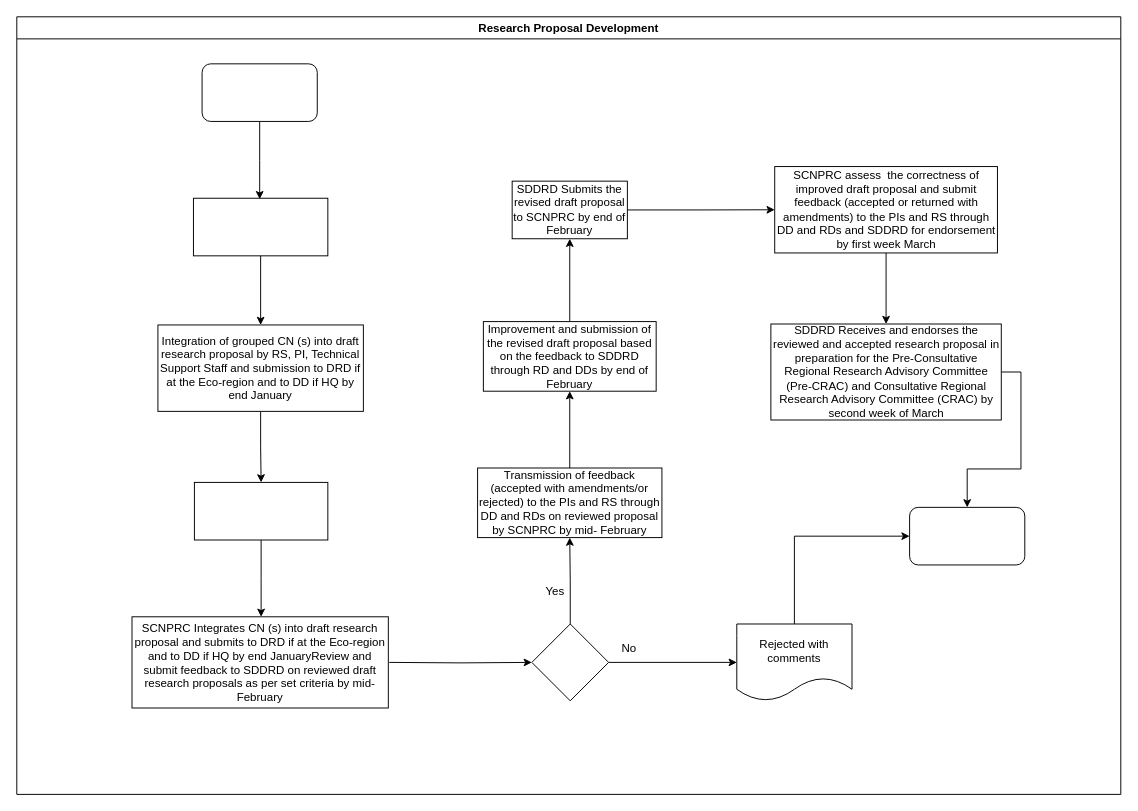
This 1138x811 diagram has some shape labels left out. The centre of each missing label's shape, as x and y in pixels:
"Accepted?" belongs at point (570, 662).
"End" belongs at point (967, 535).
"PI and RS receive approved CN fro proposal development by first week of January" belongs at point (260, 226).
"SDDRD Submits draft proposal to the SCNPRC by first week of February" belongs at point (260, 510).
"Start" belongs at point (259, 92).
